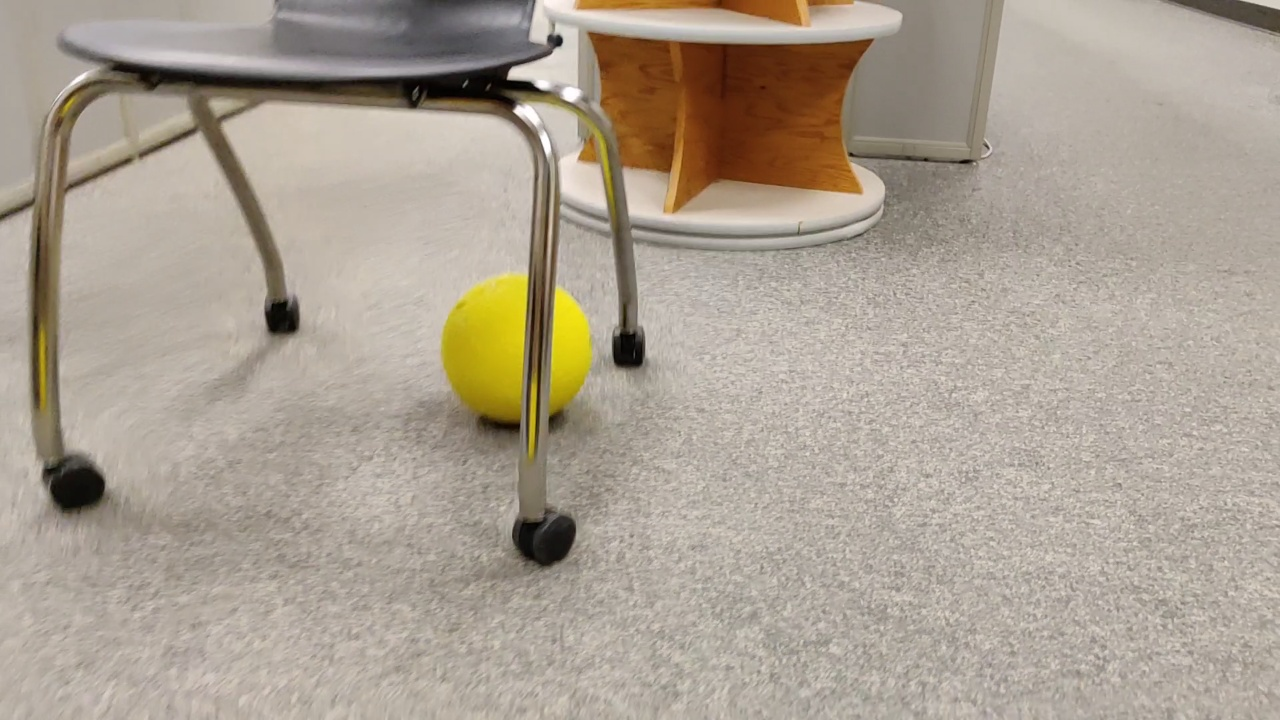Ball: (440, 278, 599, 423)
